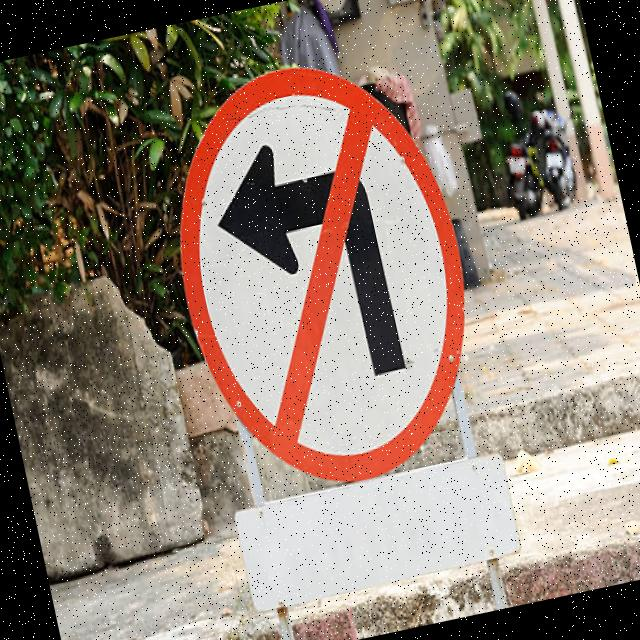do_not_turn_right: (146, 36, 502, 518)
